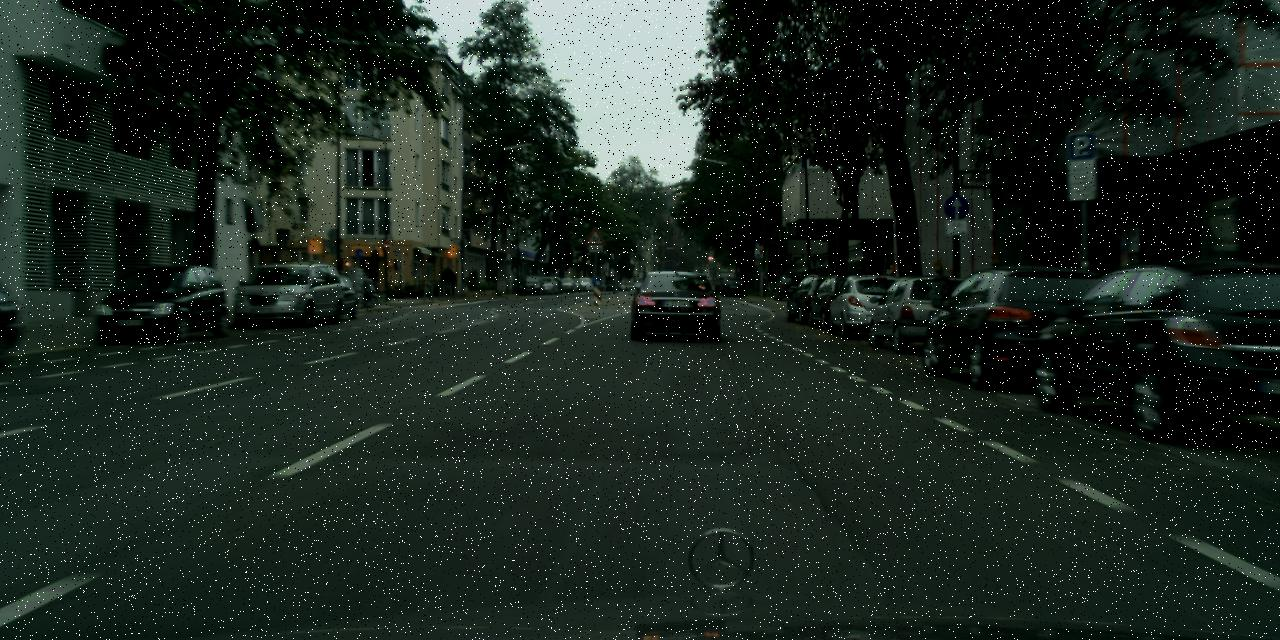ped: (850, 266, 866, 304)
